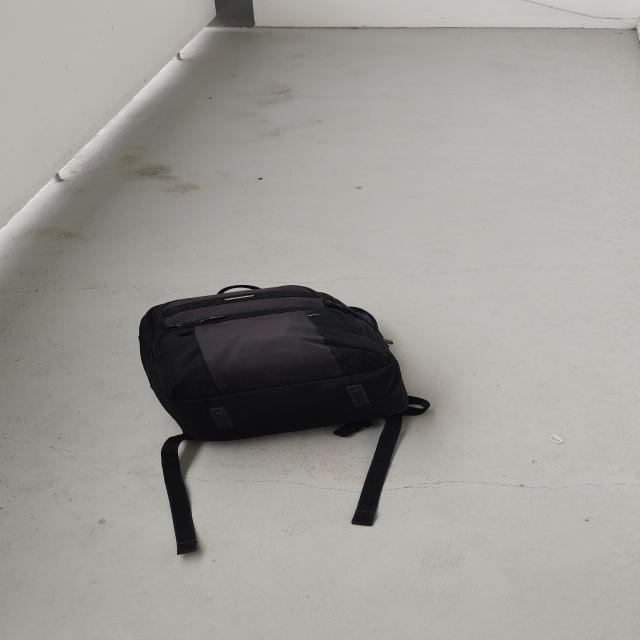backpack: (123, 278, 422, 452)
